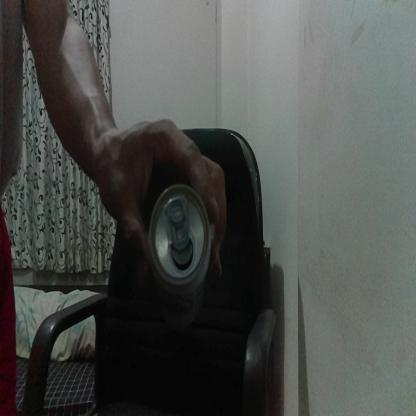plastic_bottles: (148, 178, 212, 286)
